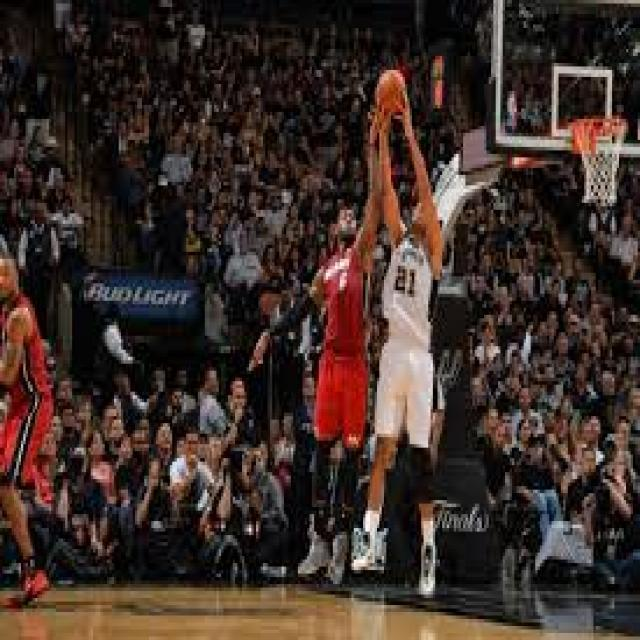rim: (374, 70, 406, 119)
